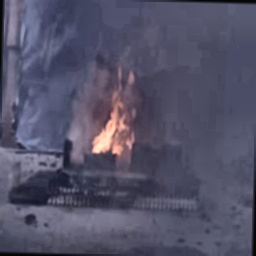fire: (91, 86, 134, 168)
